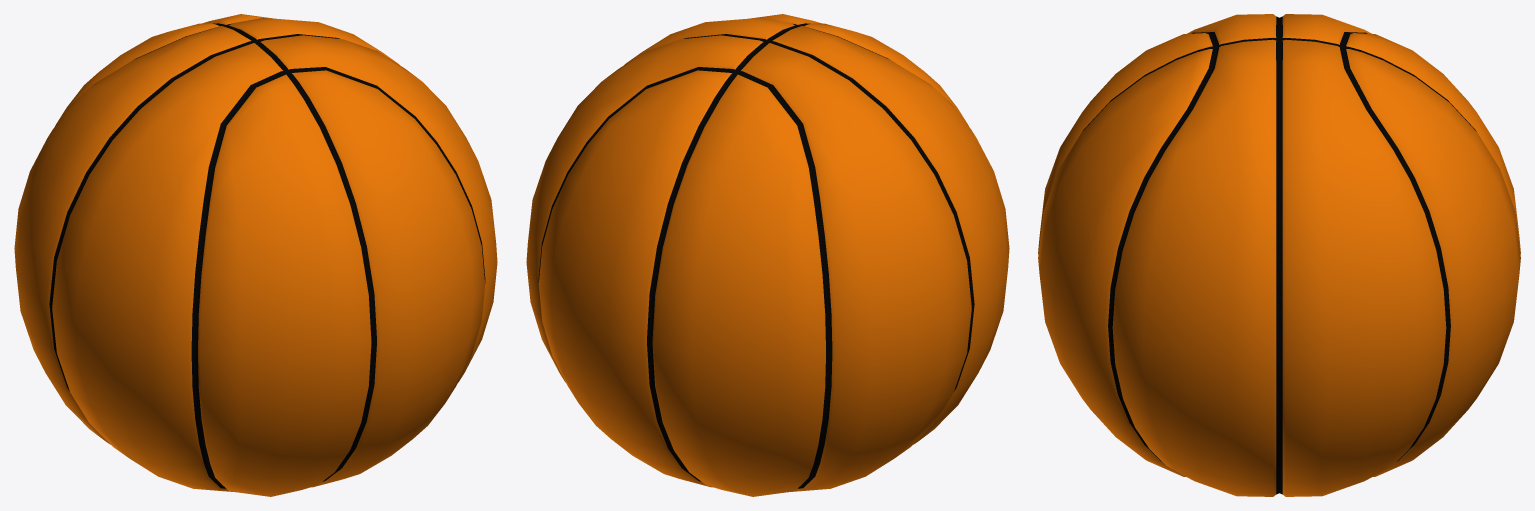
Rendered from basketball.glb.
The picture shows the model from 3 angles, left to right: view 1: azimuth 30°, elevation 25°; view 2: azimuth 150°, elevation 25°; view 3: azimuth 270°, elevation 25°; orthographic projection.
Parts seen in each view (by area): view 1: Cube; view 2: Cube; view 3: Cube.
Boxes of the visible parts, left/top/right/bottom form: Cube: left=14, top=14, right=497, bottom=496; Cube: left=526, top=14, right=1009, bottom=496; Cube: left=1038, top=14, right=1520, bottom=496.
Bounding box in the file's own units: 0.2404 × 0.2398 × 0.2404.
